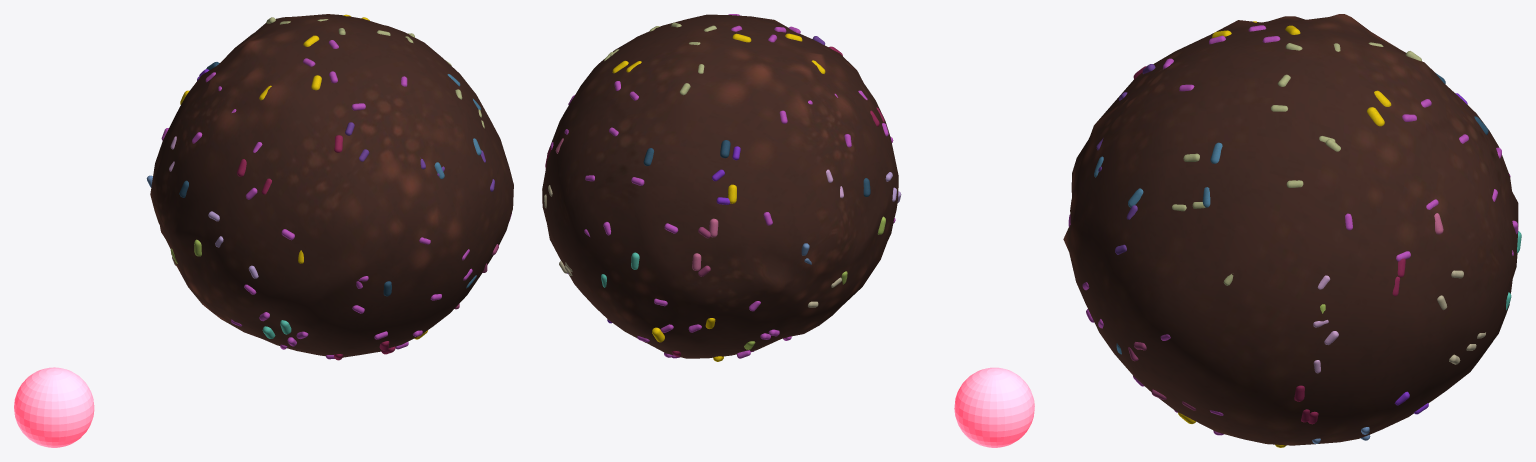
The picture shows the model from 3 angles, left to right: view 1: azimuth 30°, elevation 25°; view 2: azimuth 150°, elevation 25°; view 3: azimuth 270°, elevation 25°; orthographic projection. The views are drawn at different scales.
Visible parts, largest first — view 1: ChocolateBall1, Sprinkles1, 球体; view 2: ChocolateBall1, Sprinkles1, 球体; view 3: ChocolateBall1, Sprinkles1.
Boxes of the visible parts, left/top/right/bottom form: ChocolateBall1: left=150, top=14, right=513, bottom=357; Sprinkles1: left=146, top=14, right=511, bottom=360; 球体: left=14, top=367, right=94, bottom=447; ChocolateBall1: left=542, top=14, right=898, bottom=358; Sprinkles1: left=544, top=14, right=901, bottom=361; 球体: left=954, top=367, right=1034, bottom=447; ChocolateBall1: left=1063, top=14, right=1518, bottom=445; Sprinkles1: left=1068, top=21, right=1521, bottom=447.
Bounding box in the file's own units: 1.55 × 1.11 × 1.07.
Materials: 3 (2 with a texture image).
